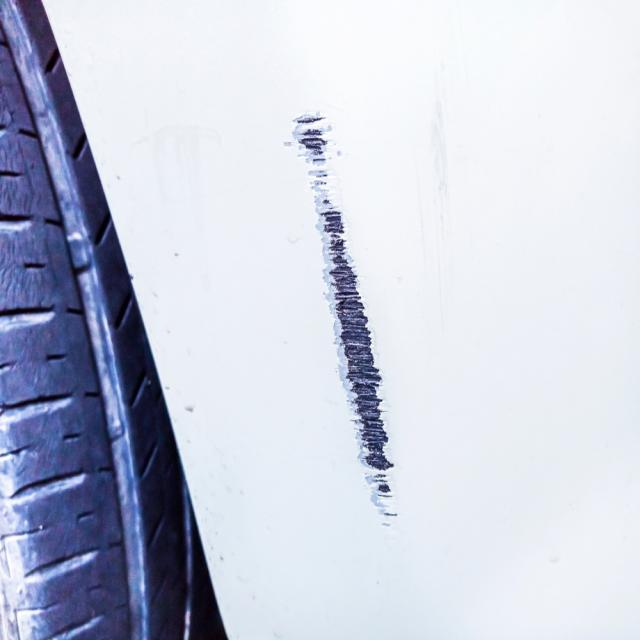scratch: (285, 107, 399, 544)
